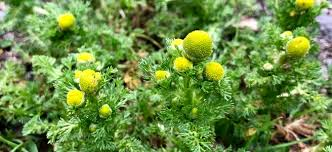pineple: (135, 39, 258, 134)
